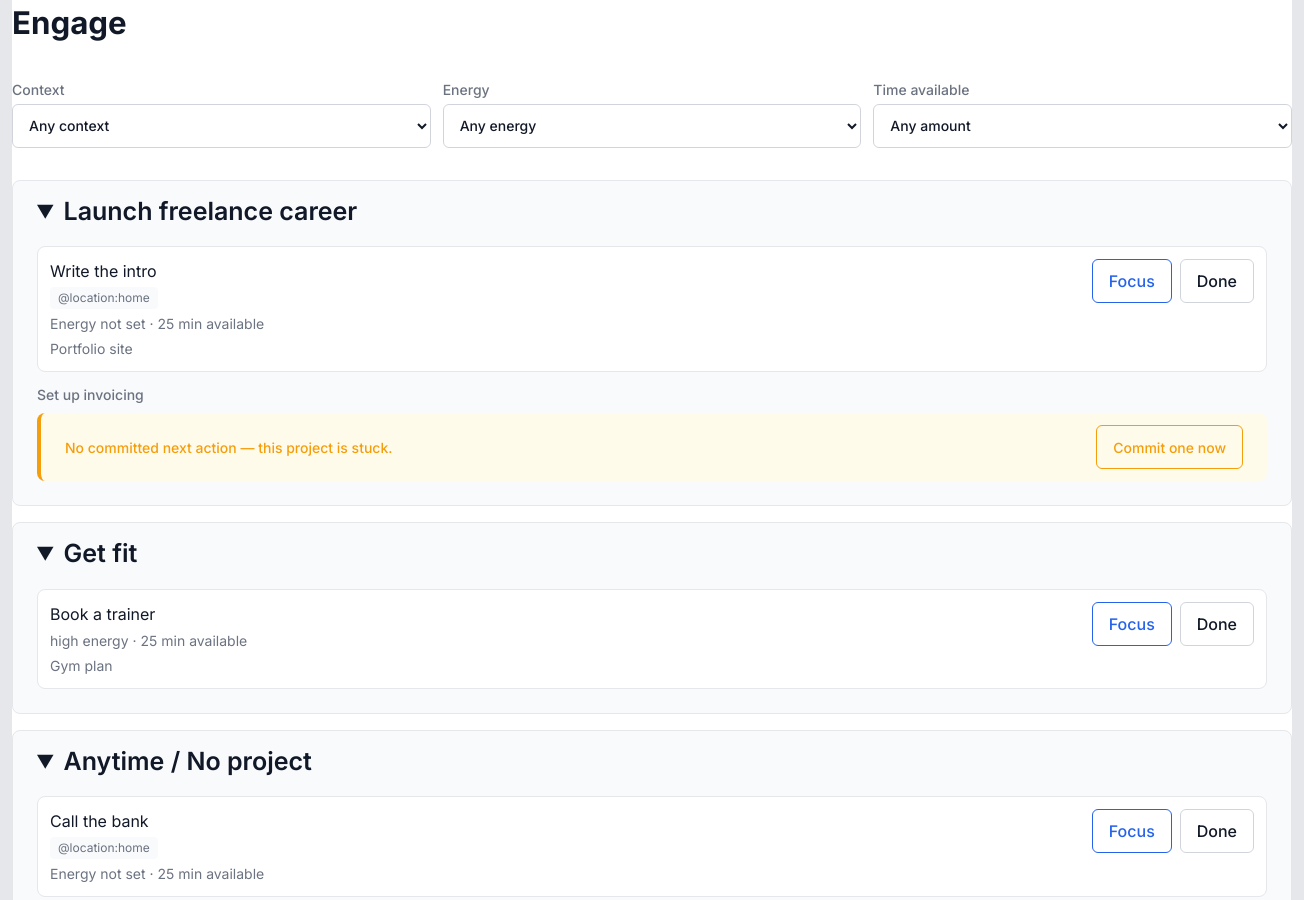
EngageBoard › opens the Pomodoro controls from an Engage action
Step 1. Click the button named "Open focus timer for \"Write the intro\"" → [1132, 281], box x1=1092 y1=259 x2=1172 y2=303
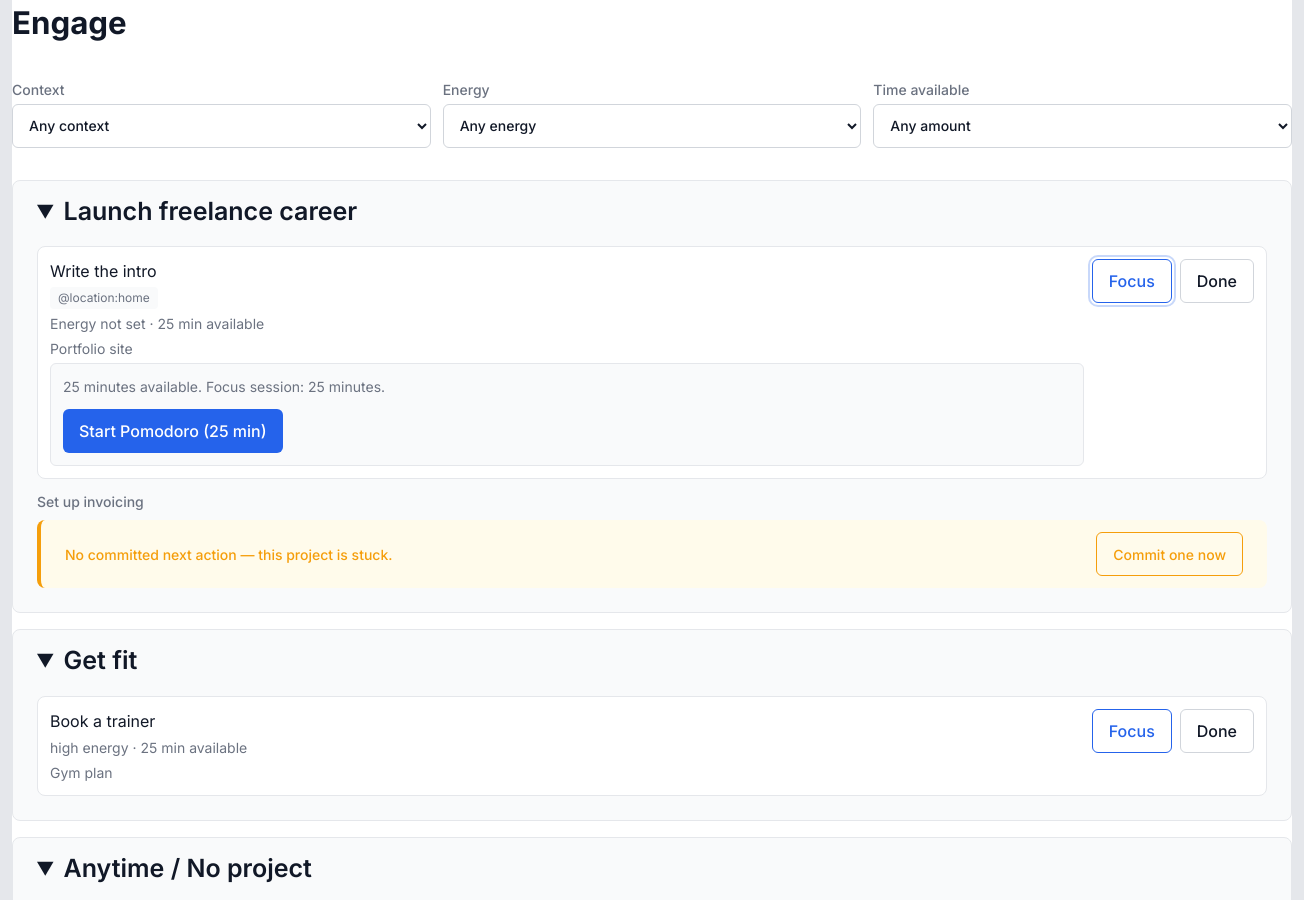
expect the element named "Focus timer for Write the intro" is shown: met, box x1=50 y1=363 x2=1084 y2=466
expect the text "25 minutes available. Focus session: 25 minutes." is shown: met, box x1=63 y1=378 x2=385 y2=395
